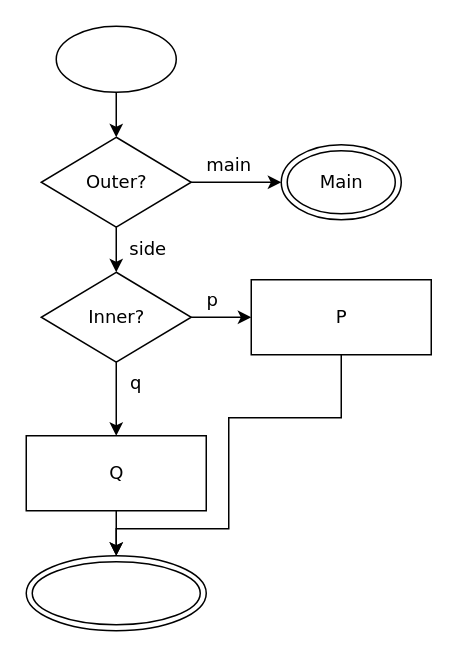
The diagram is 458 pixels wide and 657 high, and some of its shapes have lost their labels. Here are the shapes that lost their labels. From the top down, the centre of each, then its label:
[115,58]: Enter
[115,592]: Inner join
